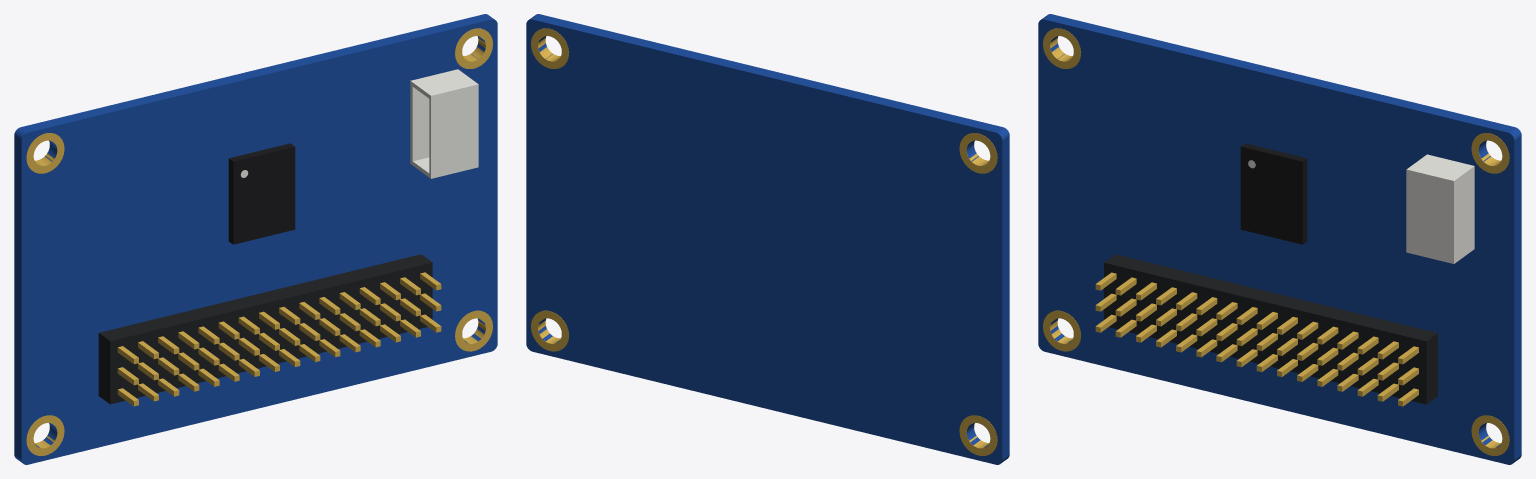
Rendered from pca9685-grove-se108020102-bb.glb.
3 renders of one model, left to right at view 1: azimuth 30°, elevation 25°; view 2: azimuth 150°, elevation 25°; view 3: azimuth 330°, elevation 25°, orthographic.
Visible parts, largest first — view 1: board, jst_ph_18, pca9685, header_2, header_8, header_5, header_7, header_15, header_11, header_14, header_12, header_17 (+27 smaller); view 2: board, hole_4, hole_2, hole_3, hole_1; view 3: board, jst_ph_18, pca9685, header_17, header_3, header_15, header_2, header_6, header_9, header_13, header_7, header_12 (+27 smaller).
Part boxes in pixels (<box>): board: <box>14,14,497,464</box>; jst_ph_18: <box>410,69,478,178</box>; pca9685: <box>228,143,295,244</box>; header_2: <box>98,328,130,404</box>; header_8: <box>220,298,251,373</box>; header_5: <box>159,313,190,387</box>; header_7: <box>200,303,231,378</box>; header_15: <box>361,264,392,338</box>; header_11: <box>280,283,311,358</box>; header_14: <box>341,269,372,343</box>; header_12: <box>301,278,331,353</box>; header_17: <box>401,254,432,329</box>; board: <box>526,14,1009,464</box>; hole_4: <box>531,28,568,68</box>; hole_2: <box>531,310,568,351</box>; hole_3: <box>959,133,997,173</box>; hole_1: <box>959,415,997,455</box>; board: <box>1038,14,1521,464</box>; jst_ph_18: <box>1406,154,1474,263</box>; pca9685: <box>1240,143,1307,244</box>; header_17: <box>1406,328,1437,404</box>; header_3: <box>1124,259,1155,334</box>; header_15: <box>1366,318,1397,393</box>; header_2: <box>1104,254,1135,329</box>; header_6: <box>1184,274,1215,348</box>; header_9: <box>1245,288,1276,363</box>; header_13: <box>1325,308,1356,383</box>; header_7: <box>1204,279,1235,353</box>; header_12: <box>1305,303,1336,378</box>.
Bounding box in the file's own units: 60 × 40 × 7.63.
